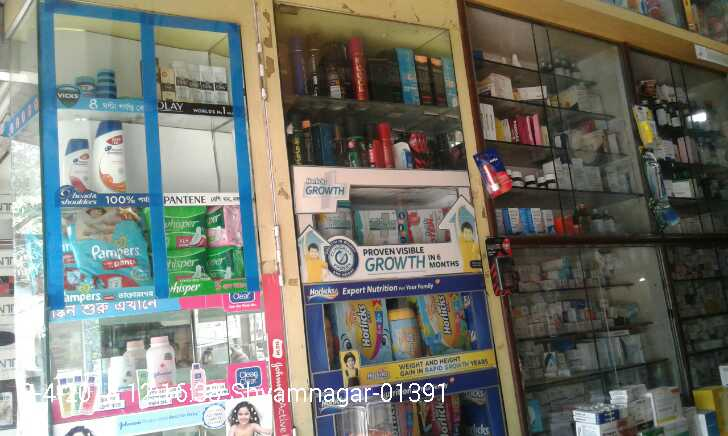vicks: (75, 64, 117, 100)
